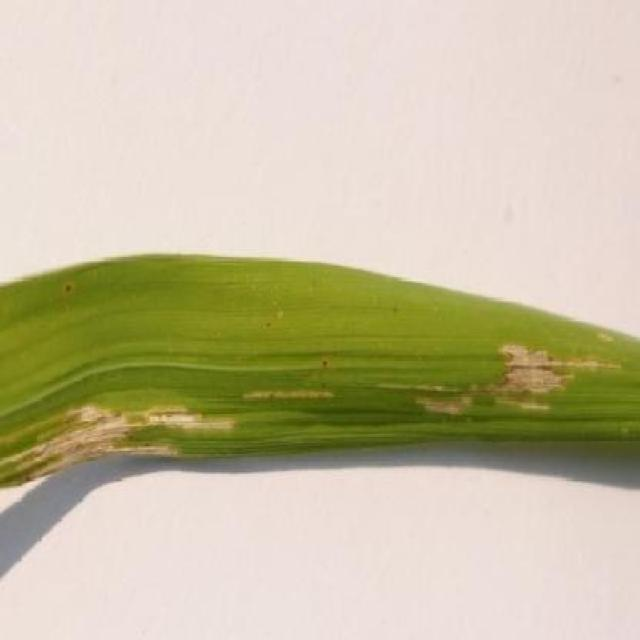Brown_Spot: (397, 309, 640, 460), (2, 383, 248, 488)
